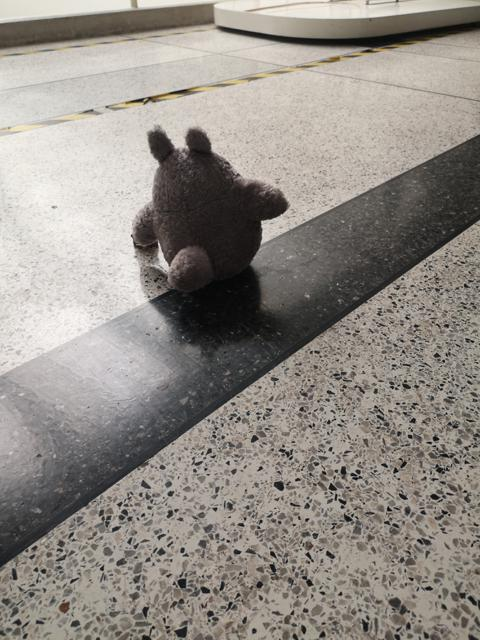totoro: (126, 118, 295, 302)
